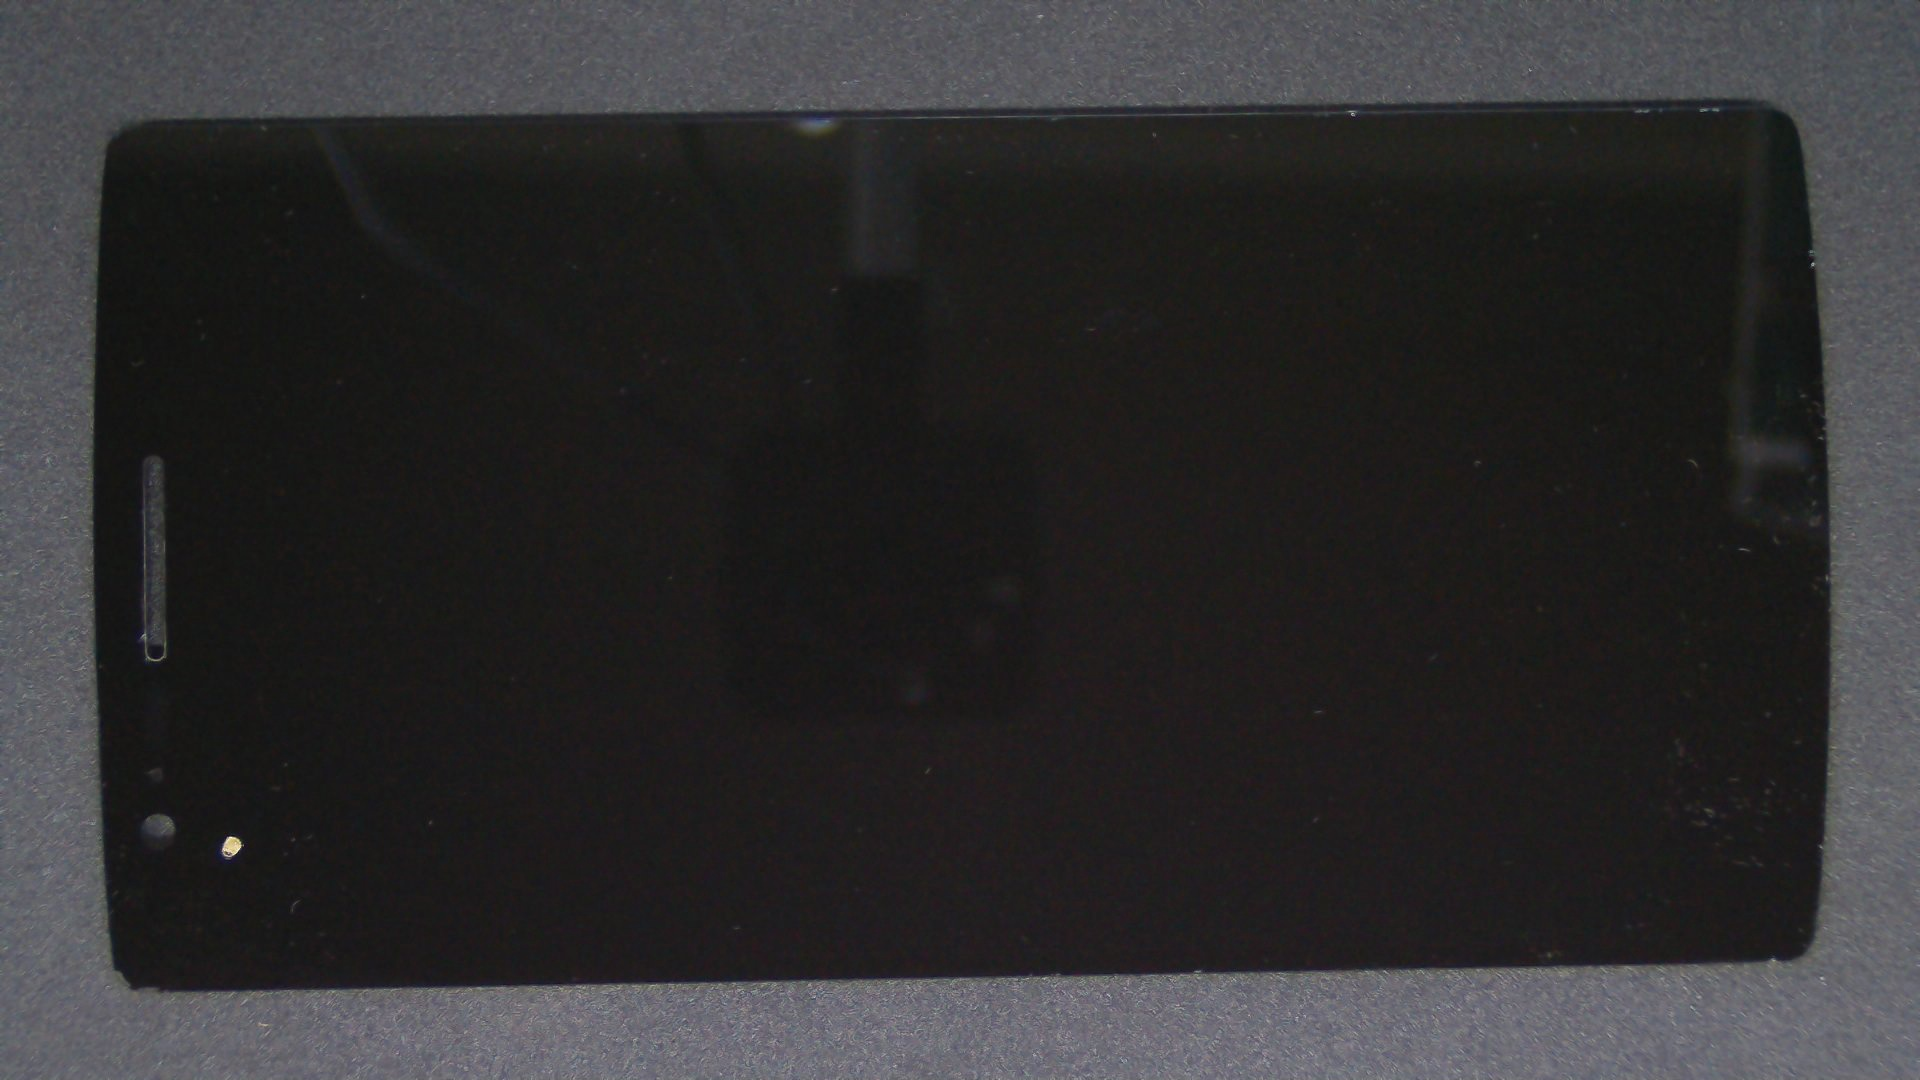oil: (117, 417, 351, 1080)
